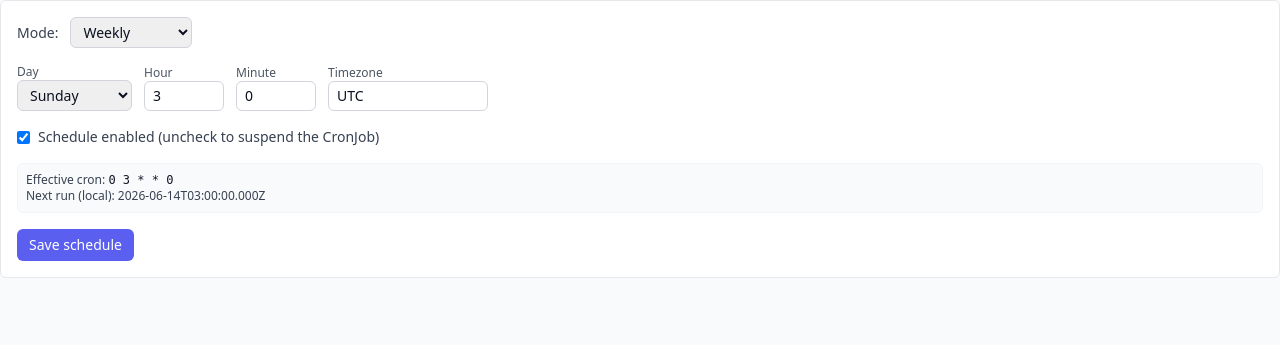
Scenario: ScheduleEditor › surfaces server-side errors inline
Click the button with test id "schedule-save" at (75, 245), box [17,229,134,261]
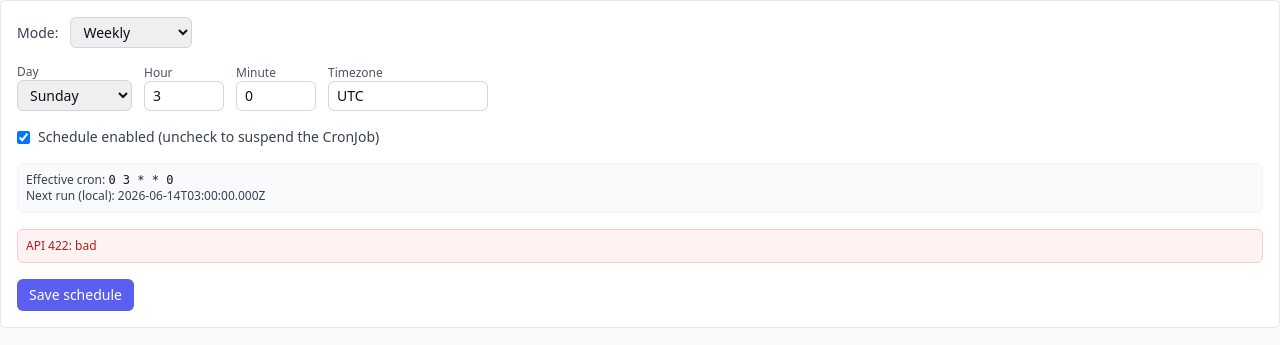
Now the text with test id "schedule-error" reads "API 422: bad", box [26,237,96,254]
